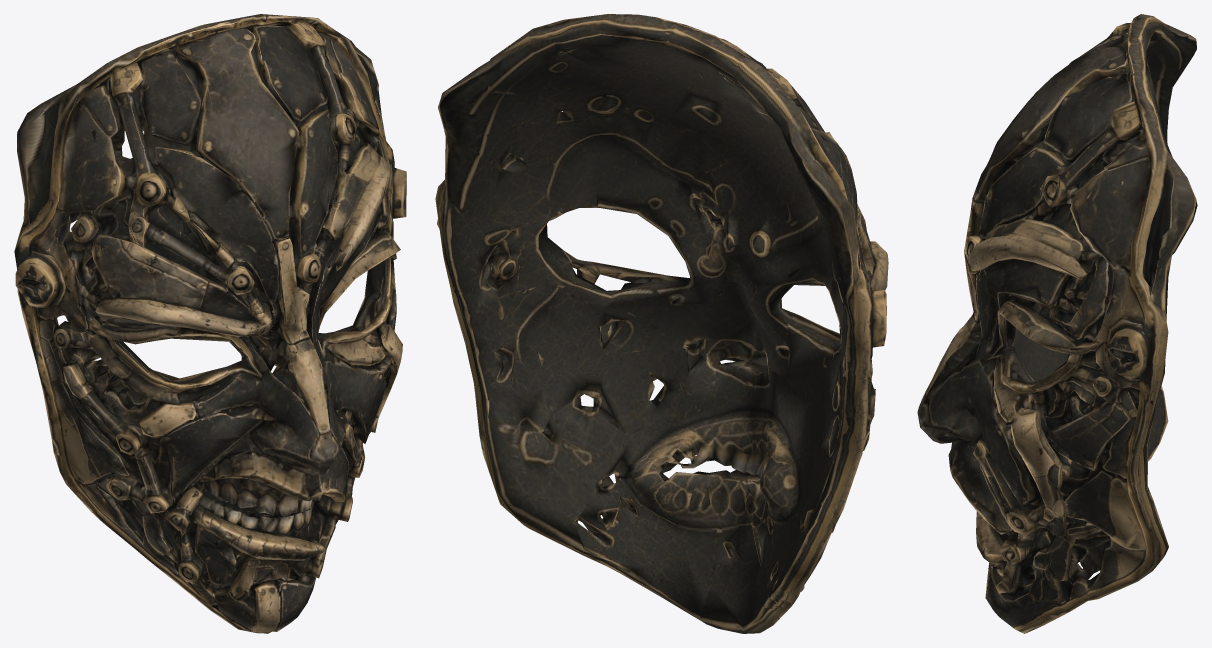
The picture shows the model from 3 angles, left to right: view 1: azimuth 30°, elevation 25°; view 2: azimuth 150°, elevation 25°; view 3: azimuth 270°, elevation 25°; orthographic projection. The views are drawn at different scales.
Parts seen in each view (by area): view 1: mechanism-grimace; view 2: mechanism-grimace; view 3: mechanism-grimace.
Boxes of the visible parts, x1,y1,x2,y2 form: mechanism-grimace: (14,14,406,633); mechanism-grimace: (435,14,888,633); mechanism-grimace: (917,14,1197,633).
Size of the model in its own units: 1.37 by 1.9 by 0.8247.
1 material, 1 textured.
